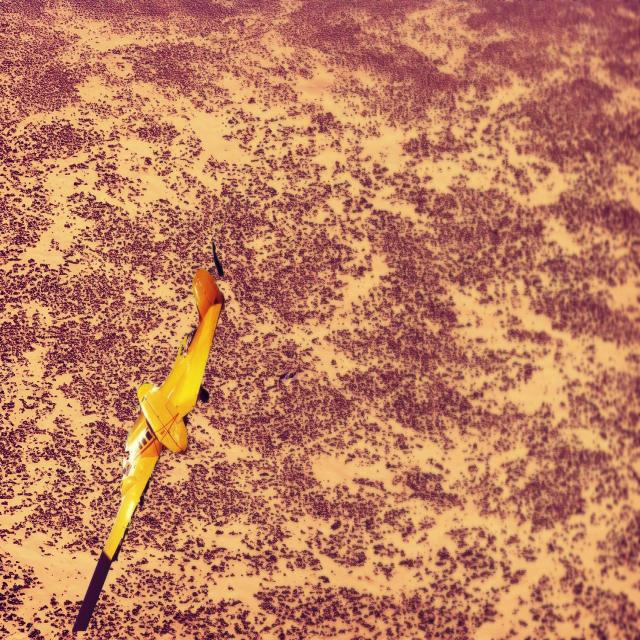airplane: (72, 240, 225, 633)
